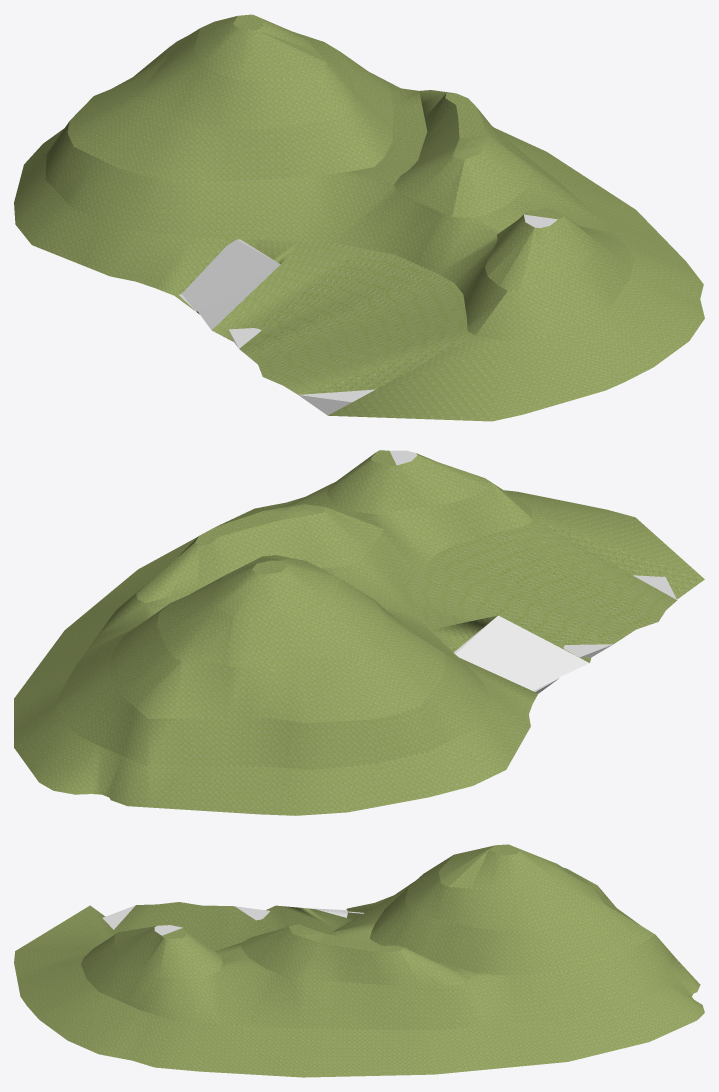
Rendered from hill.glb.
3 views of the same model, one above another, from view 1: azimuth 30°, elevation 25°; view 2: azimuth 150°, elevation 25°; view 3: azimuth 270°, elevation 25° (orthographic). The views are drawn at different scales.
Visible parts, largest first — view 1: _(Loose Entity); view 2: _(Loose Entity); view 3: _(Loose Entity).
Part boxes in pixels (bbox=[...]): _(Loose Entity): bbox=[14, 14, 704, 421]; _(Loose Entity): bbox=[14, 450, 704, 815]; _(Loose Entity): bbox=[14, 844, 704, 1077].
Bounding box in the file's own units: 54.5 × 19.88 × 83.58.
Materials: 2 (1 with a texture image).
